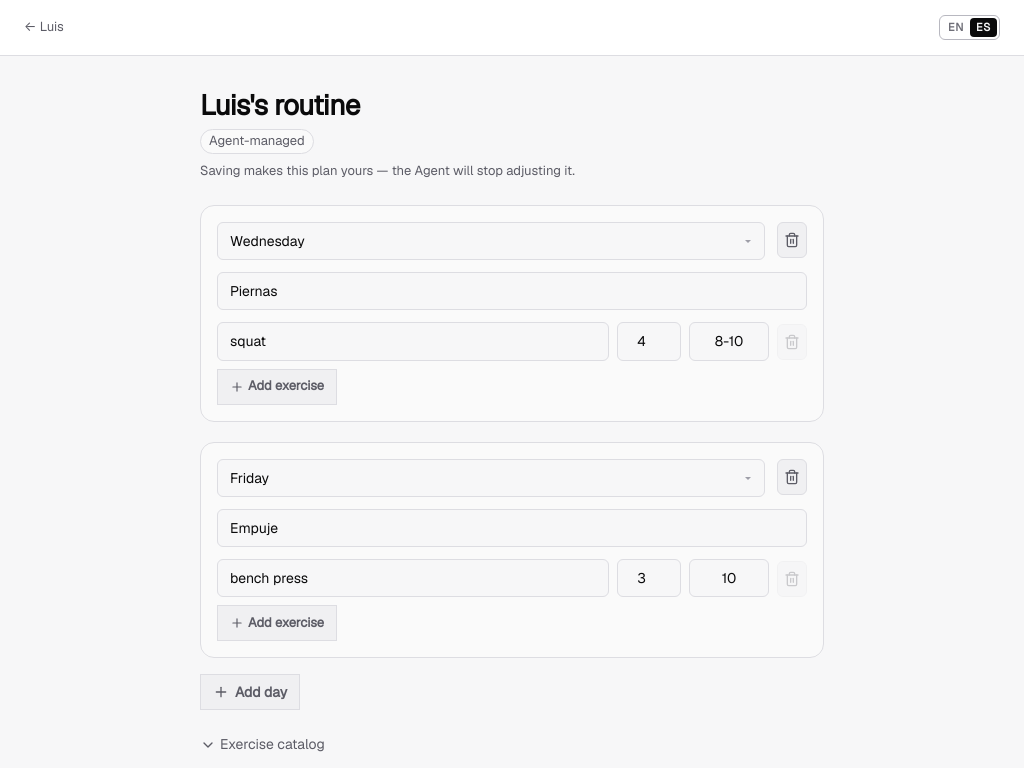
RoutineEditor › submits the form and shows success
Step 1. Click the 2nd button named "Remove day" → (792, 477), box [777,459,807,495]
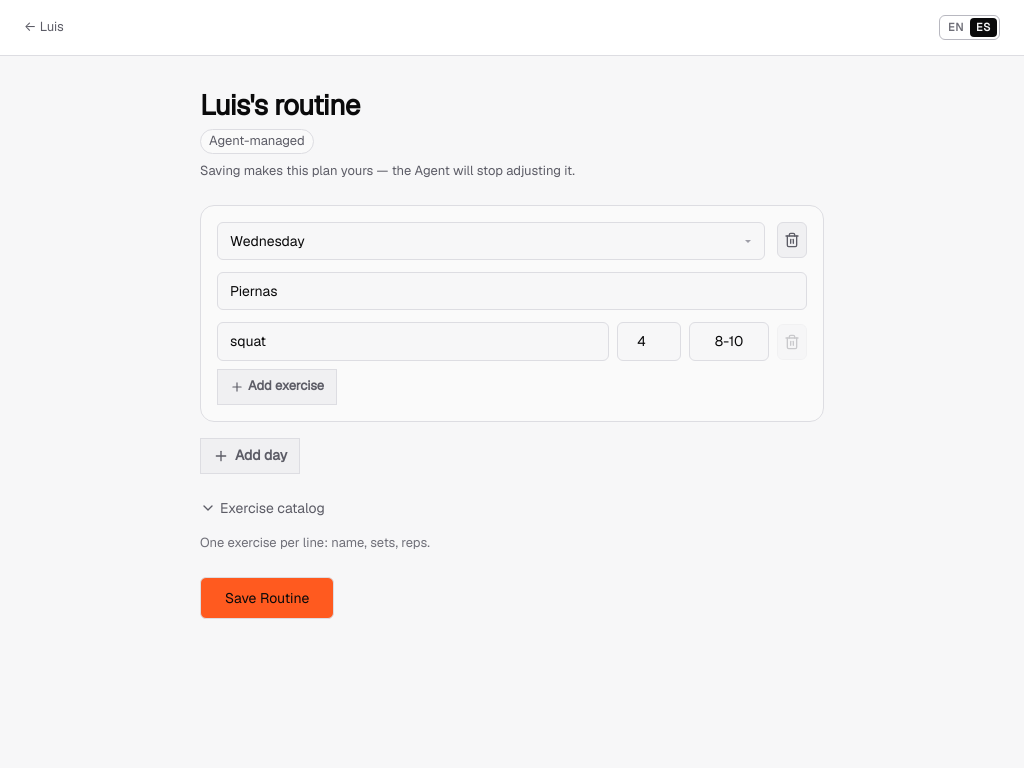
// Click save
Step 2. Click the button "Save Routine" → (267, 598), box [200,577,334,619]
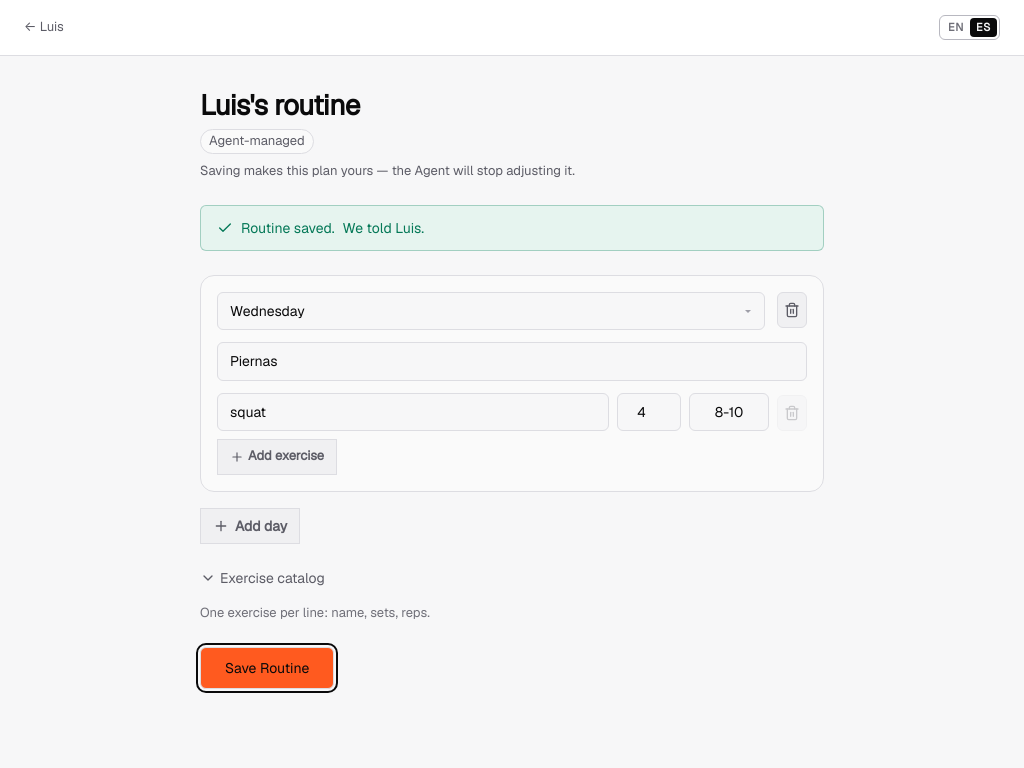
Now the text "Routine saved." is shown, box [241,218,335,238]
Now the text "We told Luis." is shown, box [343,218,424,238]
